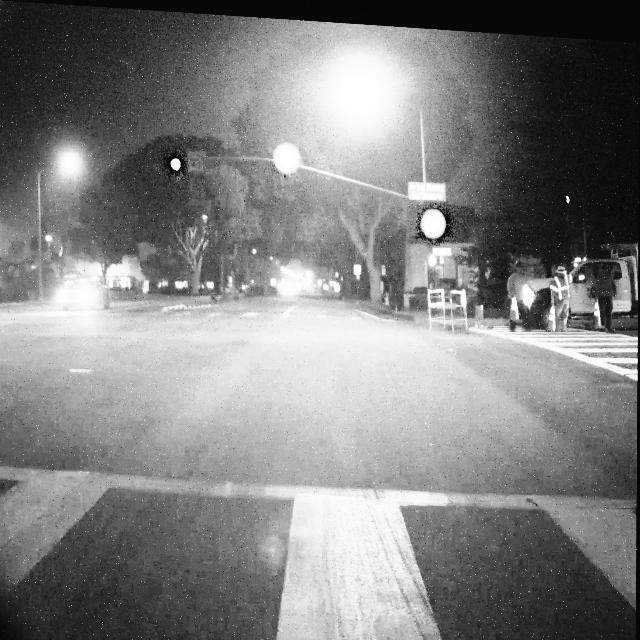Truck: (524, 226, 639, 322)
